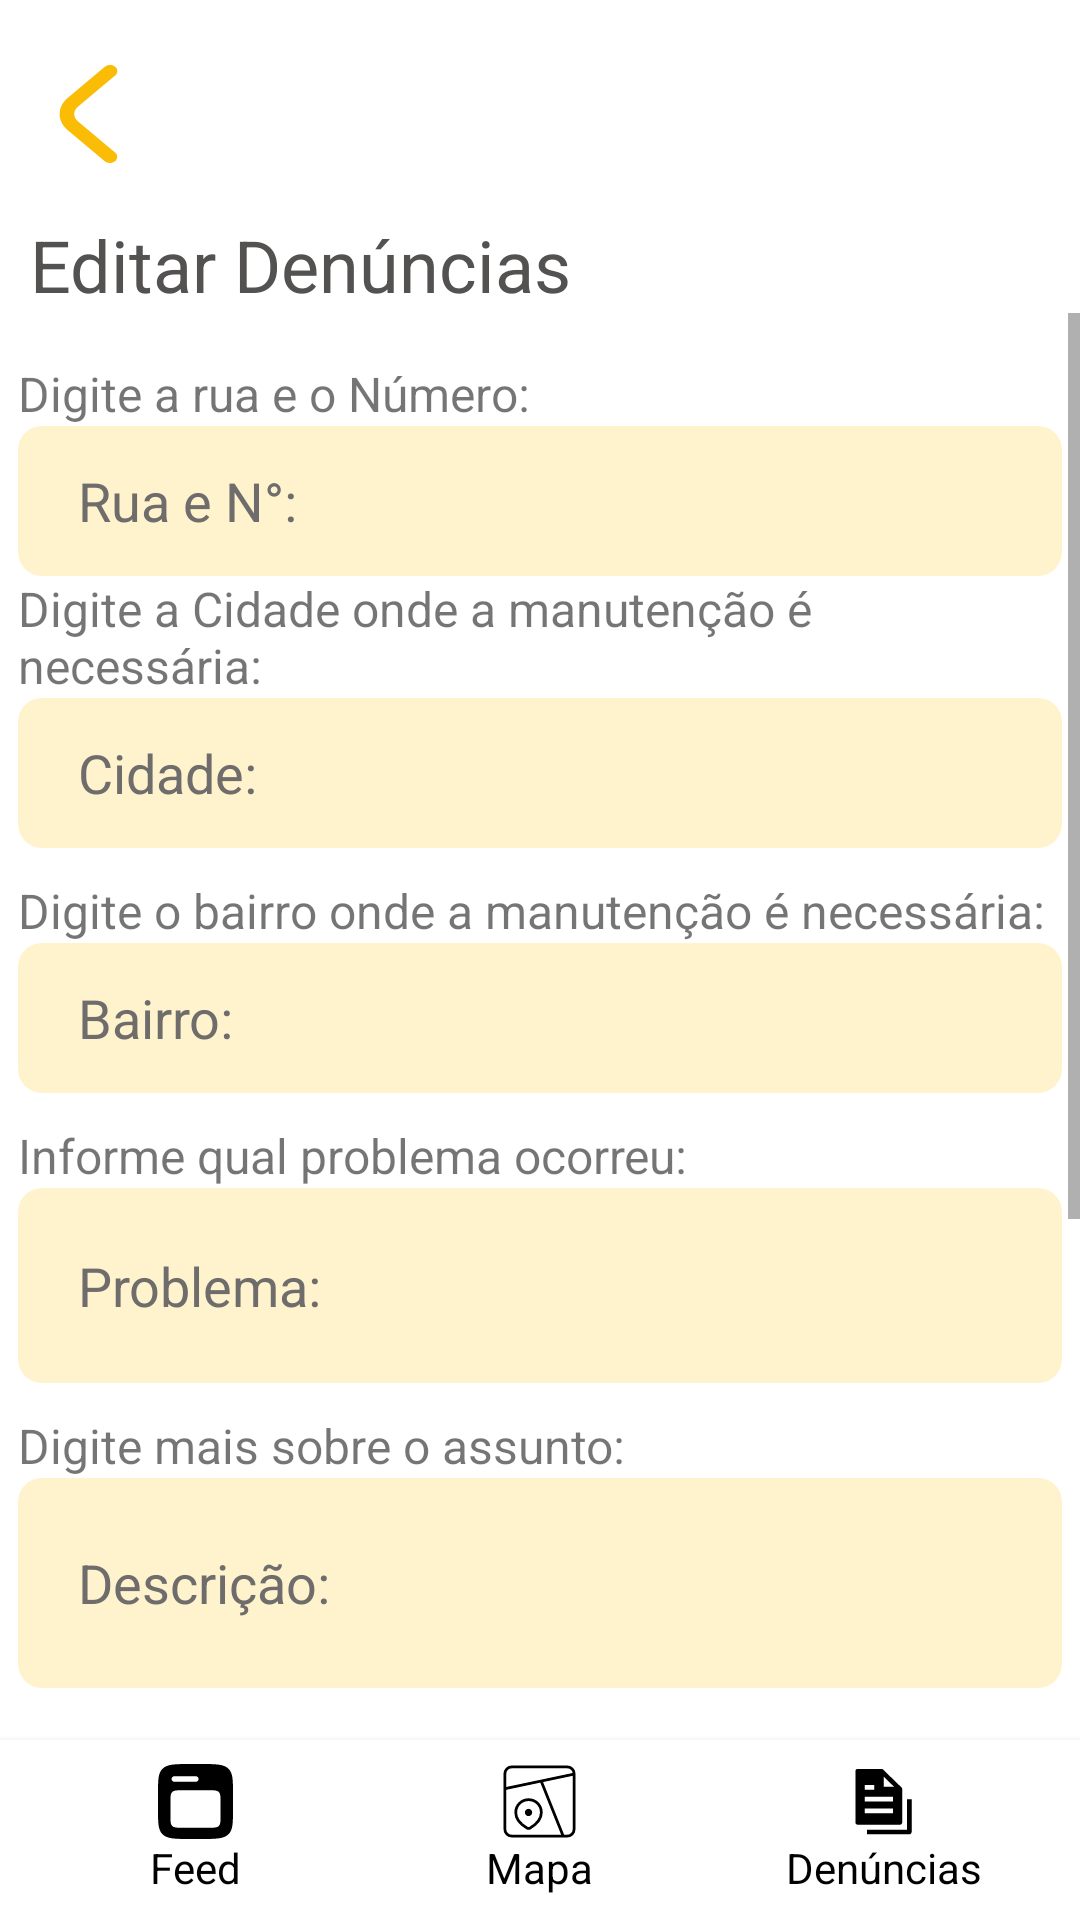

Locate icon controls on the screen. Image size 1080×1920, boxes as (x1, y1, x2, y2).
Voltar: (59, 65, 118, 163)
